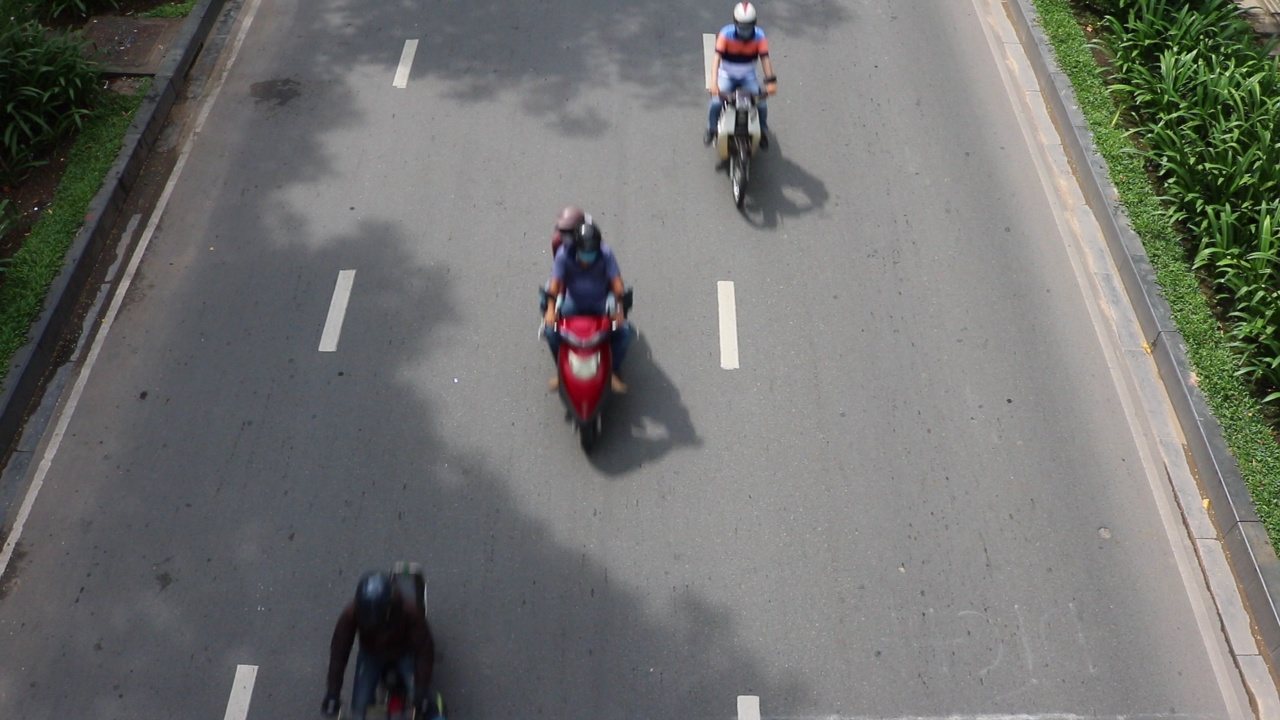motorcycle: (539, 284, 633, 450), (706, 83, 766, 214)
